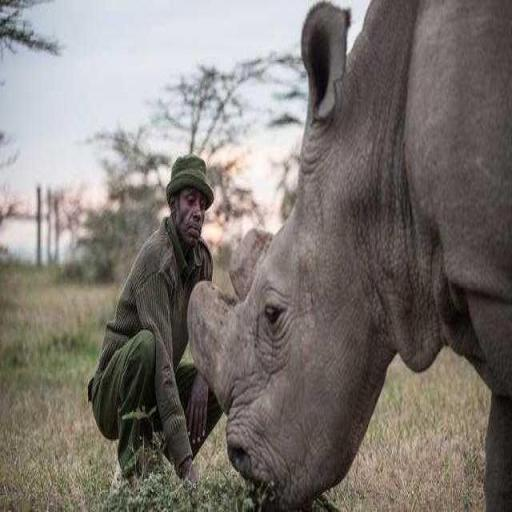Elephant: (187, 0, 511, 510)
